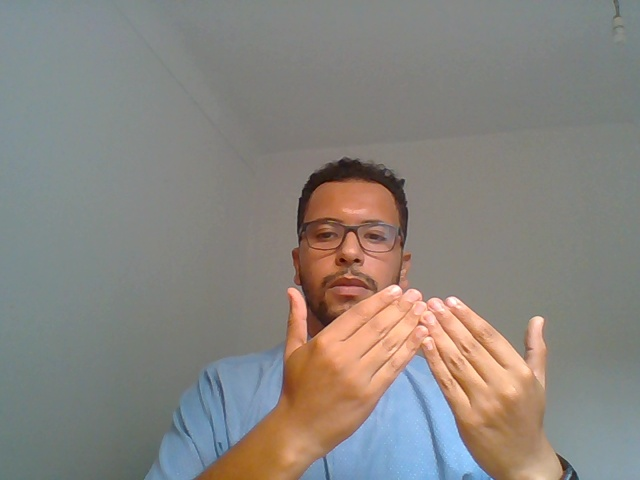thanks: (226, 280, 579, 480)
